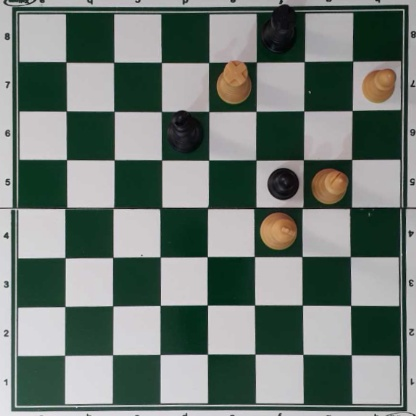black-king: (167, 110, 205, 153)
black-pawn: (267, 165, 299, 201)
black-rook: (258, 2, 299, 53)
white-bishop: (311, 166, 349, 204)
white-king: (259, 212, 298, 250)
white-pawn: (361, 66, 397, 103)
white-rook: (216, 61, 251, 104)
